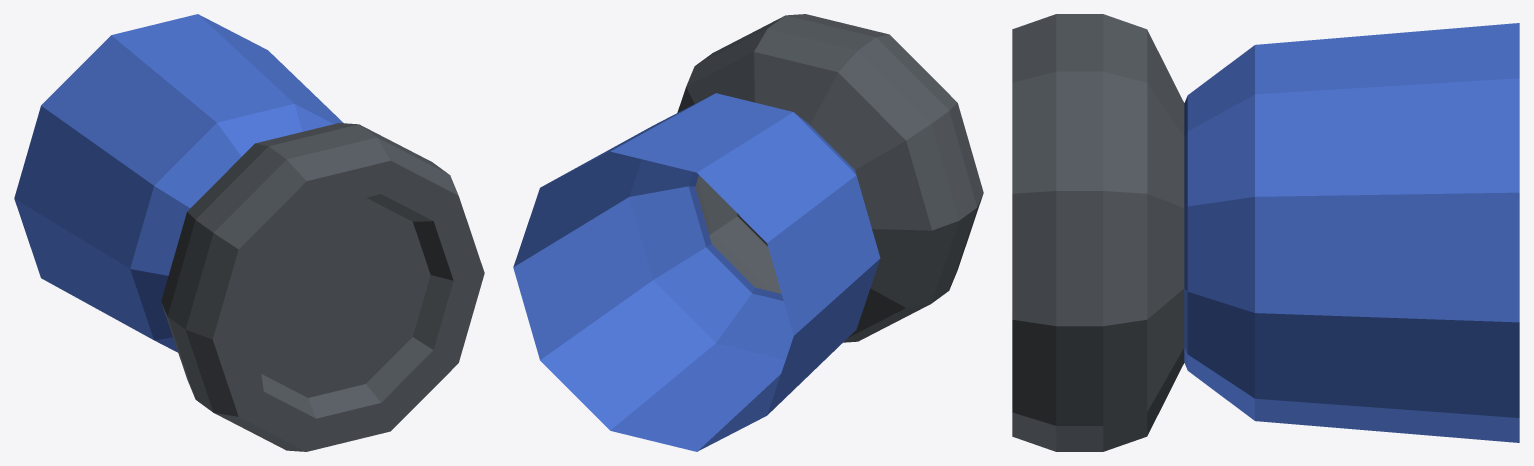
Rendered from Personal_Vehicle_01_Head_Light_Small_Blue.fbx.
The picture shows the model from 3 angles, left to right: view 1: azimuth 30°, elevation 25°; view 2: azimuth 150°, elevation 25°; view 3: azimuth 270°, elevation 25°; orthographic projection. The views are drawn at different scales.
Parts seen in each view (by area): view 1: Personal_Vehicle_01_Head_Light_Small_Blue; view 2: Personal_Vehicle_01_Head_Light_Small_Blue; view 3: Personal_Vehicle_01_Head_Light_Small_Blue.
Part boxes in pixels (x1,y1,x2,y2): Personal_Vehicle_01_Head_Light_Small_Blue: [14, 14, 484, 451]; Personal_Vehicle_01_Head_Light_Small_Blue: [513, 14, 983, 451]; Personal_Vehicle_01_Head_Light_Small_Blue: [1012, 14, 1519, 451].
Size of the model in its own units: 14.07 by 13.38 by 16.18.
2 materials, 2 textured.
